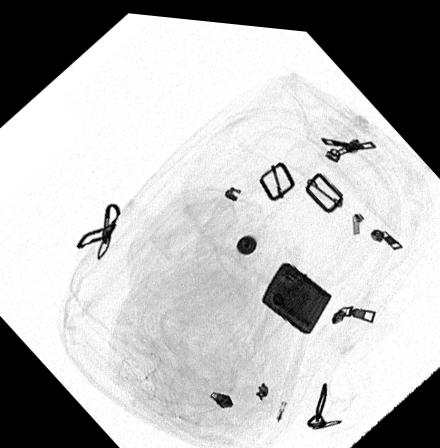Lighter: (262, 255, 332, 327)
